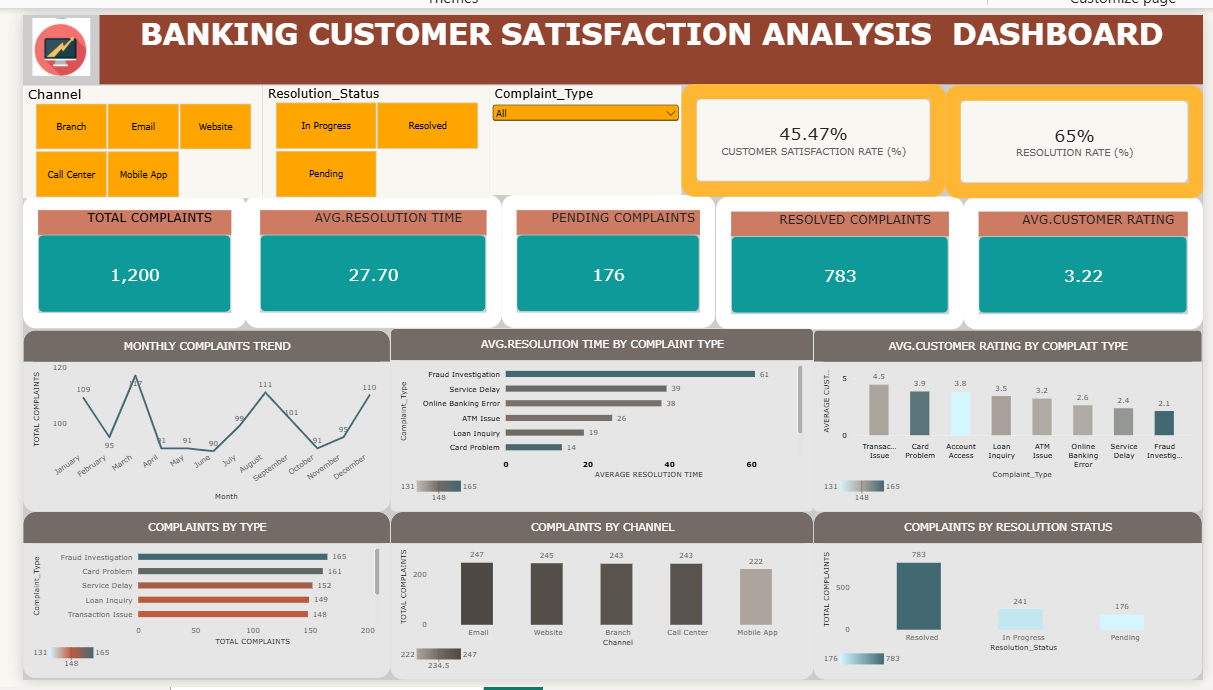

What the dashboard file says about the page in this screenshot:
{"tool":"powerbi","page":{"name":"customer satisfaction overview","canvas":[1920,1080],"ordinal":0},"visuals":[{"type":"cardVisual","title":"TOTAL COMPLAINTS","fields":{"Data":["Complaints_Data.TOTAL COMPLAITS DISPLAY"]},"box":[0,293.3,363.3,216.7],"z":0},{"type":"cardVisual","title":"RESOLVED COMPLAINTS","fields":{"Data":["Complaints_Data.RESOLVED COMPLAINTS"]},"box":[1126.2,295.6,403.6,215.9],"z":1000},{"type":"cardVisual","title":"PENDING COMPLAINTS","fields":{"Data":["Complaints_Data.PENDING COMPLAINTS"]},"box":[778.9,293.3,347.2,215.9],"z":2000},{"type":"cardVisual","title":"AVG.RESOLUTION TIME","fields":{"Data":["Complaints_Data.AVERAGE RESOLUTION TIME"]},"box":[361.3,293.3,417.6,215.9],"z":3000},{"type":"barChart","title":" COMPLAINTS BY TYPE","fields":{"Category":["Complaints_Data.Complaint_Type"],"Y":["Complaints_Data.TOTAL COMPLAINTS"]},"box":[0,807.3,597.6,270.7],"z":4000},{"type":"clusteredColumnChart","title":" COMPLAINTS BY CHANNEL","fields":{"Category":["Complaints_Data.Channel"],"Y":["Complaints_Data.TOTAL COMPLAINTS"]},"box":[597.6,807.3,687.8,273.2],"z":5000},{"type":"clusteredColumnChart","title":" COMPLAINTS BY RESOLUTION STATUS","fields":{"Category":["Complaints_Data.Resolution_Status"],"Y":["Complaints_Data.TOTAL COMPLAINTS"]},"box":[1285.4,807.3,631.7,273.2],"z":6000},{"type":"lineChart","title":"MONTHLY COMPLAINTS TREND","fields":{"Category":["Complaints_Data.Complaint_Date.Variation.Date Hierarchy.Year","Complaints_Data.Complaint_Date.Variation.Date Hierarchy.Quarter","Complaints_Data.Complaint_Date.Variation.Date Hierarchy.Month","Complaints_Data.Complaint_Date.Variation.Date Hierarchy.Day"],"Y":["Complaints_Data.TOTAL COMPLAINTS"]},"box":[0,512.2,597.6,295.1],"z":7000},{"type":"slicer","fields":{"Values":["Complaints_Data.Complaint_Type"]},"box":[757.8,115,312,178.3],"z":8000},{"type":"slicer","fields":{"Values":["Complaints_Data.Channel"]},"box":[0,115,389.5,183],"z":9000},{"type":"slicer","fields":{"Values":["Complaints_Data.Resolution_Status"]},"box":[389.5,115,368.4,183],"z":10000},{"type":"textbox","box":[124.4,0,1794.9,112.6],"z":11000},{"type":"cardVisual","title":"AVG.CUSTOMER RATING","fields":{"Data":["Complaints_Data.AVERAGE CUSTOMER RATING"]},"box":[1529.7,295.6,389.5,215.9],"z":12000},{"type":"image","box":[0,4.7,124.4,93.8],"z":13000},{"type":"clusteredBarChart","title":"AVG.RESOLUTION TIME BY COMPLAINT TYPE","fields":{"Category":["Complaints_Data.Complaint_Type"],"Y":["Complaints_Data.AVERAGE RESOLUTION TIME"]},"box":[597.6,509.8,687.8,297.6],"z":15000},{"type":"clusteredColumnChart","title":"AVG.CUSTOMER RATING BY COMPLAIT TYPE","fields":{"Category":["Complaints_Data.Complaint_Type"],"Y":["Complaints_Data.AVERAGE CUSTOMER RATING"]},"box":[1285.4,512.2,631.7,295.1],"z":16000},{"type":"cardVisual","fields":{"Data":["Complaints_Data.RESOLUTION RATE (%)"]},"box":[1499.2,115,420,183],"z":18001},{"type":"cardVisual","fields":{"Data":["Complaints_Data.CUSTOMER SATISFACTION RATE (%)"]},"box":[1069.9,112.6,429.4,183],"z":18002}]}

Visuals, with their boxes on the page's 1920x1080 design canvas (x1, y1, x2, y2). These are canvas units, not pixel positions in the 1213x690 screenshot, which may show the page scaled, cropped or inside an application window:
"TOTAL COMPLAINTS" cardVisual: box(0, 293, 363, 510)
"RESOLVED COMPLAINTS" cardVisual: box(1126, 296, 1530, 512)
"PENDING COMPLAINTS" cardVisual: box(779, 293, 1126, 509)
"AVG.RESOLUTION TIME" cardVisual: box(361, 293, 779, 509)
" COMPLAINTS BY TYPE" barChart: box(0, 807, 598, 1078)
" COMPLAINTS BY CHANNEL" clusteredColumnChart: box(598, 807, 1285, 1080)
" COMPLAINTS BY RESOLUTION STATUS" clusteredColumnChart: box(1285, 807, 1917, 1080)
"MONTHLY COMPLAINTS TREND" lineChart: box(0, 512, 598, 807)
slicer - Complaints_Data.Complaint_Type: box(758, 115, 1070, 293)
slicer - Complaints_Data.Channel: box(0, 115, 390, 298)
slicer - Complaints_Data.Resolution_Status: box(390, 115, 758, 298)
textbox: box(124, 0, 1919, 113)
"AVG.CUSTOMER RATING" cardVisual: box(1530, 296, 1919, 512)
image: box(0, 5, 124, 98)
"AVG.RESOLUTION TIME BY COMPLAINT TYPE" clusteredBarChart: box(598, 510, 1285, 807)
"AVG.CUSTOMER RATING BY COMPLAIT TYPE" clusteredColumnChart: box(1285, 512, 1917, 807)
cardVisual - Complaints_Data.RESOLUTION RATE (%): box(1499, 115, 1919, 298)
cardVisual - Complaints_Data.CUSTOMER SATISFACTION RATE (%): box(1070, 113, 1499, 296)
